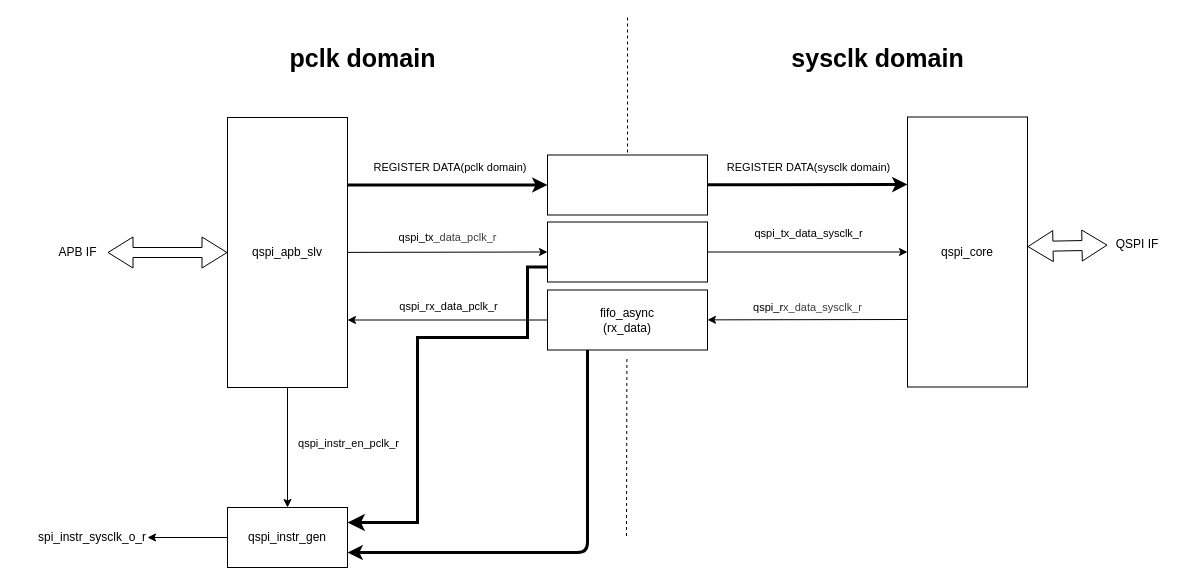
Image size: 1184x585. Some labels were removed from this diagram. Here are the shapes that lost their labels. From the top down, the box of each, then its label:
(546, 154, 708, 215): qspi_sync_pclk2sysclk
(546, 221, 708, 282): fifo_async (tx_data)
